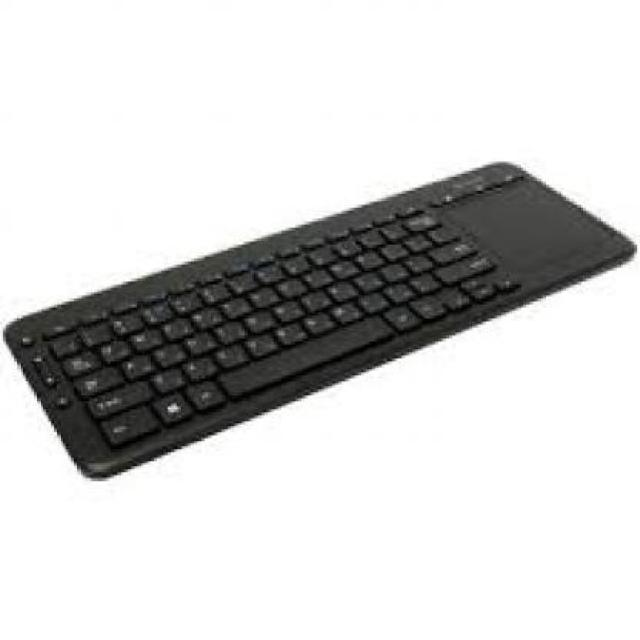keyboard: (6, 162, 625, 468)
